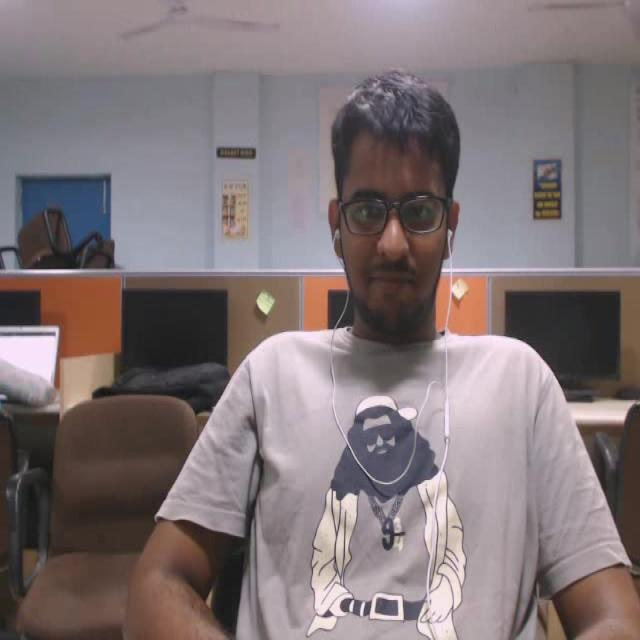Engaged: (296, 48, 477, 376)
